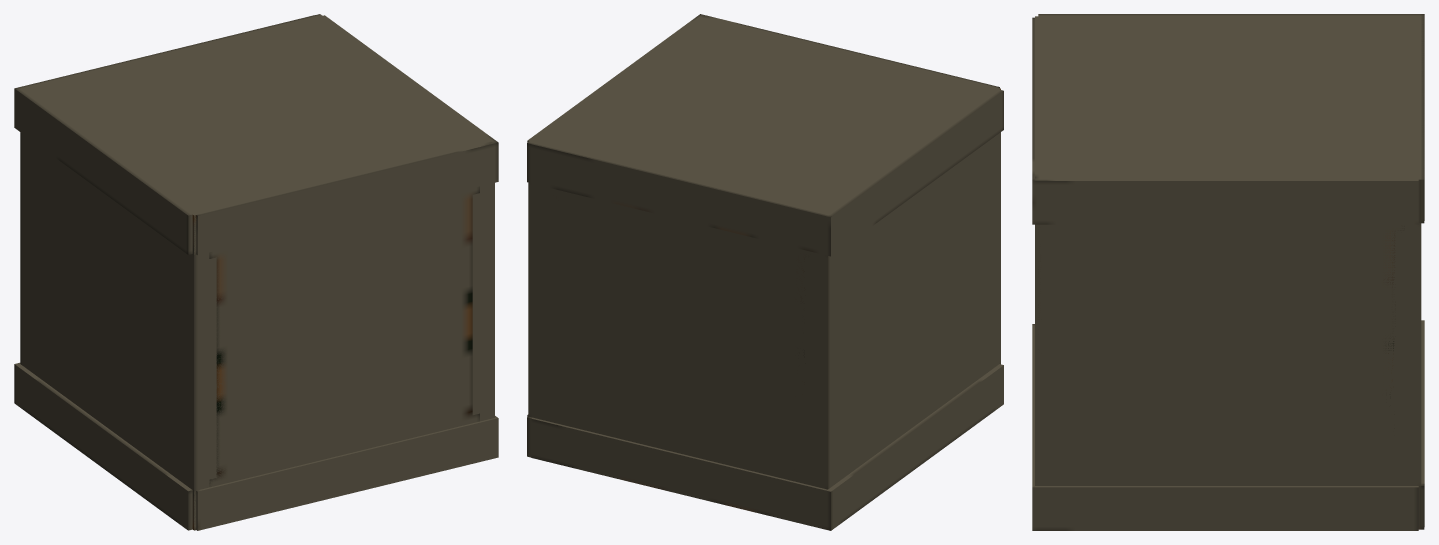
The model's file is level_001walls3.fbx.
3 views of the same model, side by side, from view 1: azimuth 30°, elevation 25°; view 2: azimuth 150°, elevation 25°; view 3: azimuth 270°, elevation 25° (orthographic). The views are drawn at different scales.
Parts seen in each view (by area): view 1: parallel, top_bottom, 4_side, 2_side, 3_side; view 2: top_bottom, 4_side, 3_side, 1_side, 2_side, parallel; view 3: top_bottom, 4_side, 2_side, 1_side, 3_side.
Part boxes in pixels (x1,y1,x2,y2): parallel: (194, 186, 479, 530); top_bottom: (20, 132, 494, 529); 4_side: (21, 15, 494, 215); 2_side: (196, 15, 498, 530); 3_side: (14, 15, 351, 530); top_bottom: (528, 89, 1000, 489); 4_side: (529, 15, 1000, 214); 3_side: (531, 89, 1003, 530); 1_side: (527, 142, 827, 490); 2_side: (527, 14, 999, 416); parallel: (546, 187, 808, 442); top_bottom: (1035, 223, 1421, 485); 4_side: (1035, 16, 1421, 179); 2_side: (1032, 17, 1418, 530); 1_side: (1038, 16, 1424, 529); 3_side: (1038, 14, 1424, 526).
Size of the model in its own units: 2.04 by 2 by 2.03.
